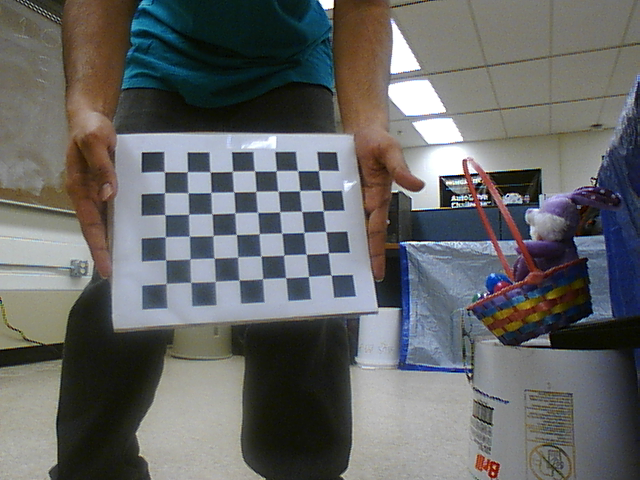bunny: (453, 151, 608, 351)
